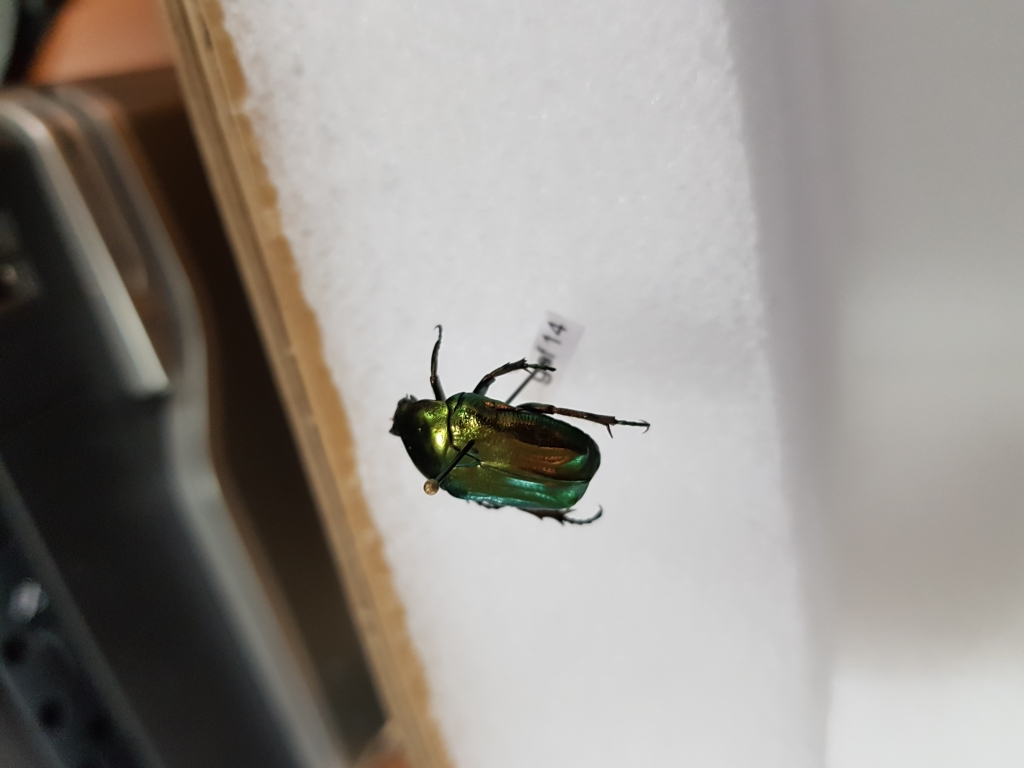Cetonia_aurata: (386, 314, 650, 530)
